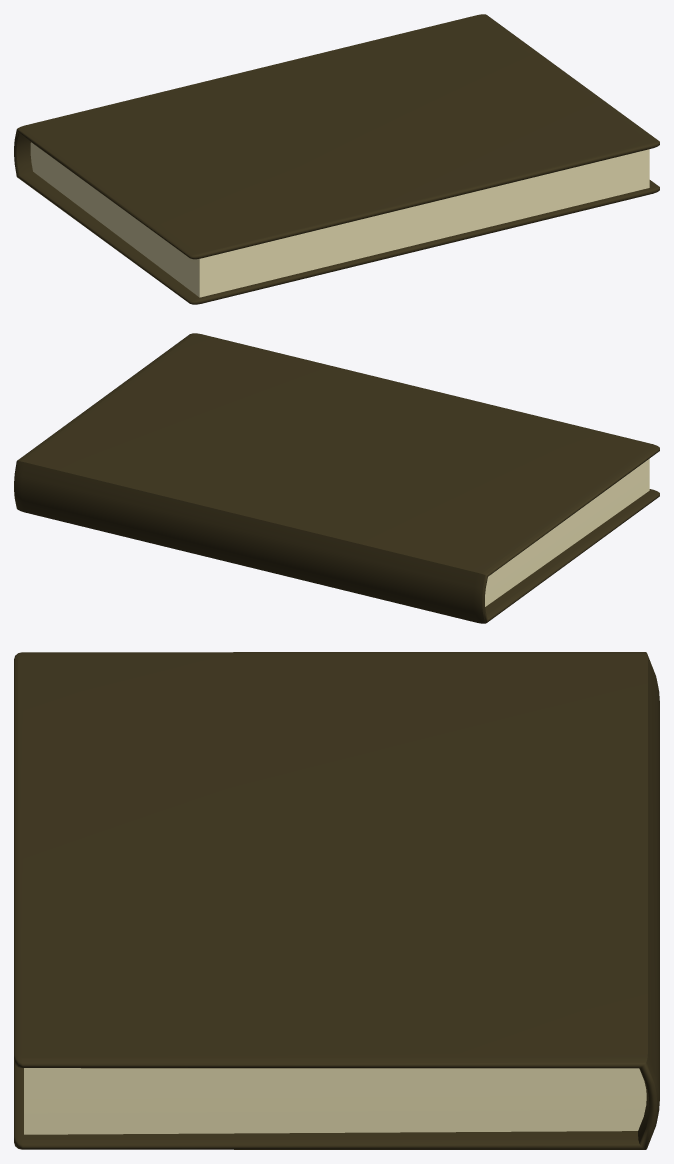
File: Boxpedition_book.fbx
3 views of the same model, one above another, from view 1: azimuth 30°, elevation 25°; view 2: azimuth 150°, elevation 25°; view 3: azimuth 270°, elevation 25° (orthographic). The views are drawn at different scales.
Parts seen in each view (by area): view 1: Cube.001; view 2: Cube.001; view 3: Cube.001.
Part boxes in pixels (x1=…): Cube.001: x1=14, y1=14, x2=659, y2=304; Cube.001: x1=14, y1=333, x2=659, y2=623; Cube.001: x1=14, y1=652, x2=659, y2=1149.
Bounding box in the file's own units: 335 × 34.13 × 222.
